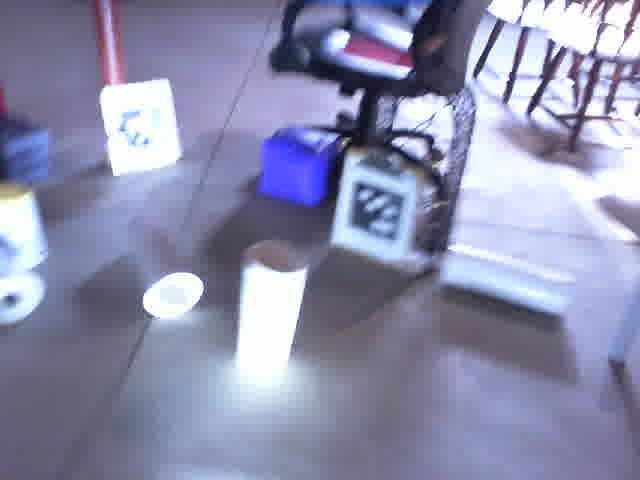coral: (436, 238, 577, 321), (230, 237, 308, 387), (117, 206, 202, 321)
